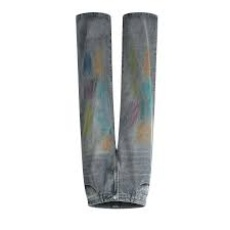earth: (137, 125, 151, 142), (143, 49, 152, 74), (94, 52, 103, 72), (101, 139, 112, 149)
